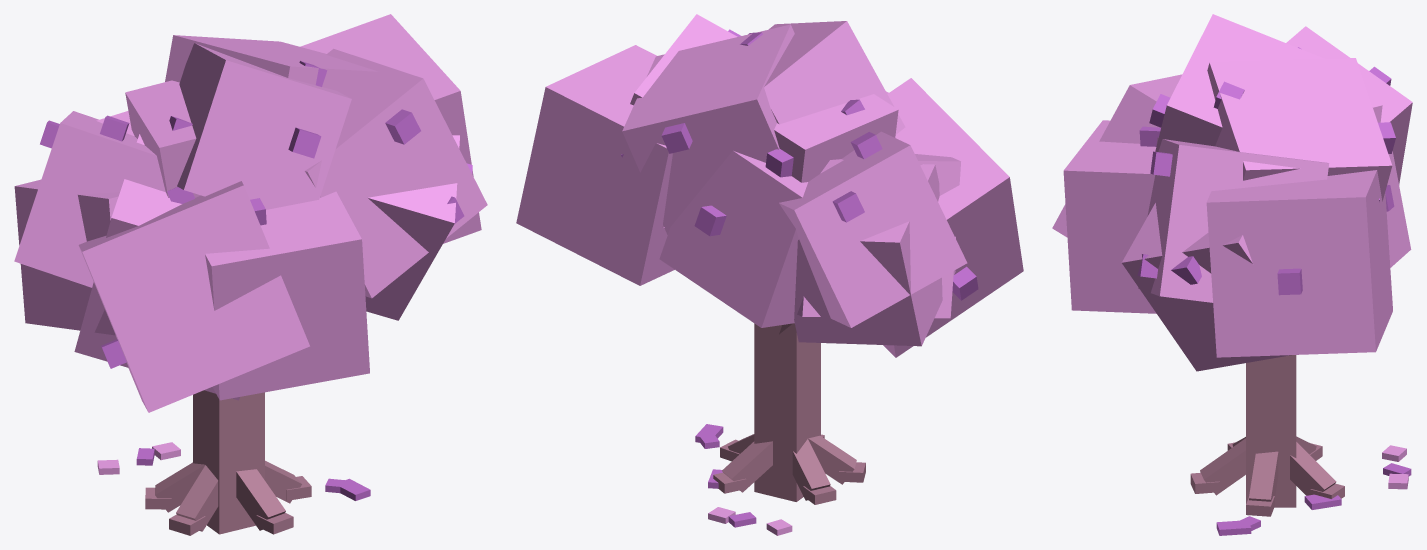
The model's file is CherryTree.fbx.
3 views of the same model, side by side, from view 1: azimuth 30°, elevation 25°; view 2: azimuth 150°, elevation 25°; view 3: azimuth 270°, elevation 25° (orthographic). The views are drawn at different scales.
Parts seen in each view (by area): view 1: Sakura, Trunk.001, SakuraDark; view 2: Sakura, Trunk.001, SakuraDark; view 3: Sakura, Trunk.001, SakuraDark.
Boxes of the visible parts, x1=… form: Sakura: x1=14, y1=14, x2=487, y2=474; Trunk.001: x1=145, y1=390, x2=311, y2=535; SakuraDark: x1=40, y1=61, x2=472, y2=500; Sakura: x1=516, y1=14, x2=1023, y2=535; Trunk.001: x1=713, y1=323, x2=865, y2=504; SakuraDark: x1=621, y1=29, x2=978, y2=527; Sakura: x1=1052, y1=14, x2=1412, y2=489; Trunk.001: x1=1190, y1=355, x2=1344, y2=516; SakuraDark: x1=1137, y1=47, x2=1411, y2=535.
Bounding box in the file's own units: 17.43 × 18.44 × 12.9.
